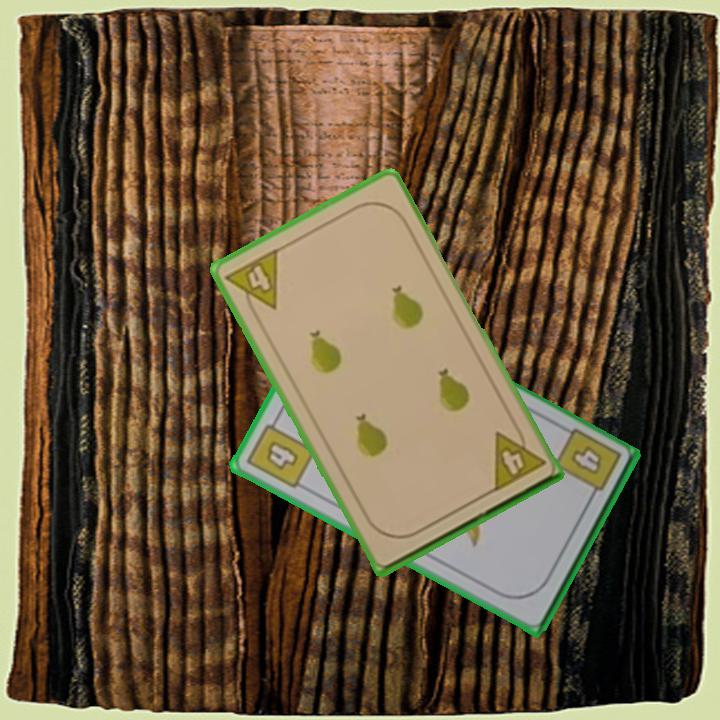4b: (243, 413, 319, 492), (551, 425, 624, 506)
4p: (222, 244, 281, 322), (488, 420, 548, 495)
